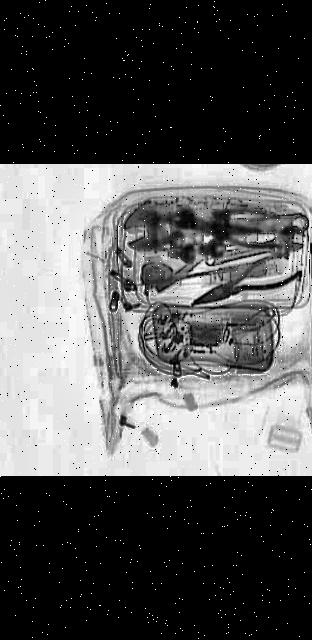Pliers: (173, 254, 307, 318)
Wrench: (119, 200, 311, 254)
